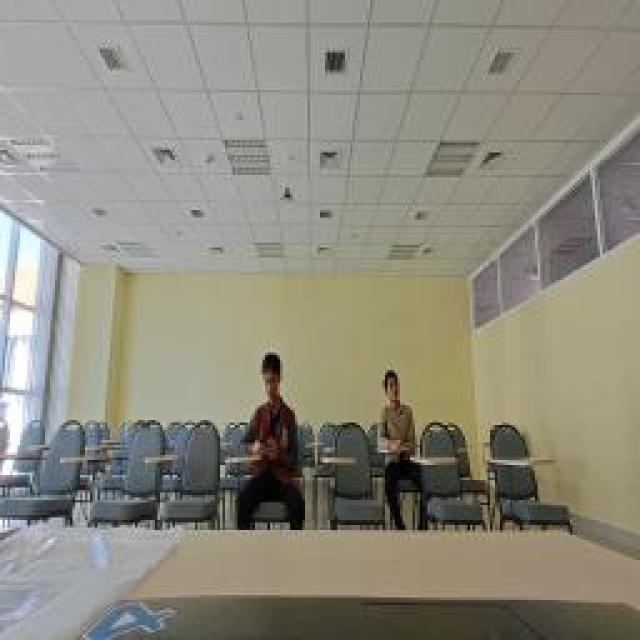phone: (240, 353, 300, 455)
study: (377, 370, 415, 450)
